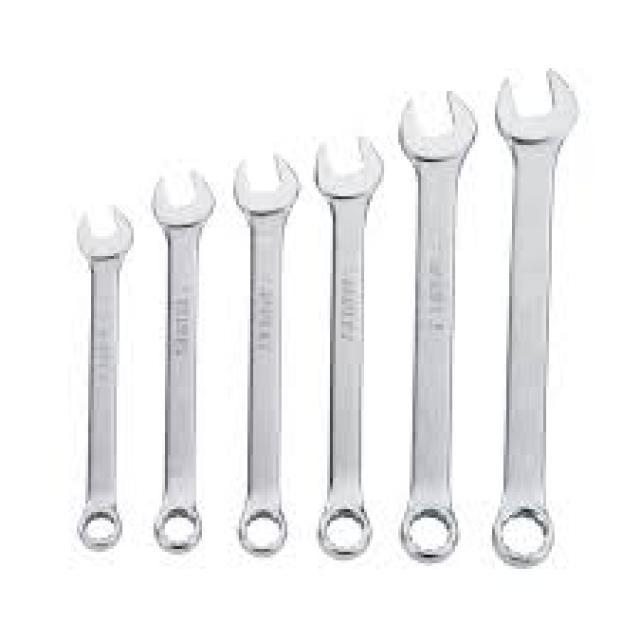wrench: (487, 63, 582, 582), (384, 82, 484, 564), (224, 147, 309, 557), (308, 128, 387, 563), (143, 160, 224, 562), (72, 198, 144, 560)
